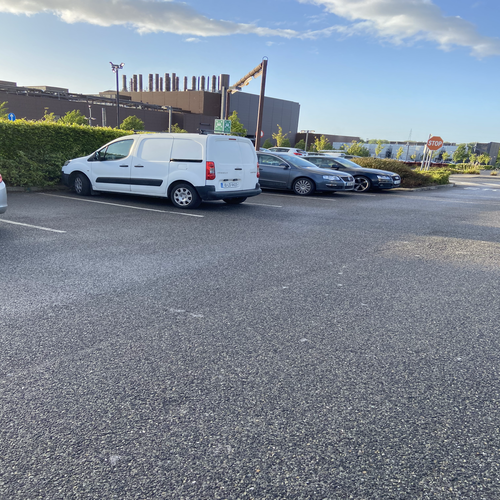Car: (57, 134, 261, 211), (259, 152, 355, 207), (351, 161, 400, 203)
Stop: (426, 135, 445, 150)
